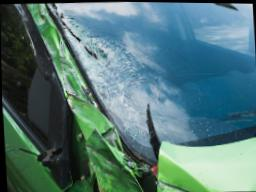Fender: (24, 3, 152, 192)
Windshield: (45, 2, 239, 170)
